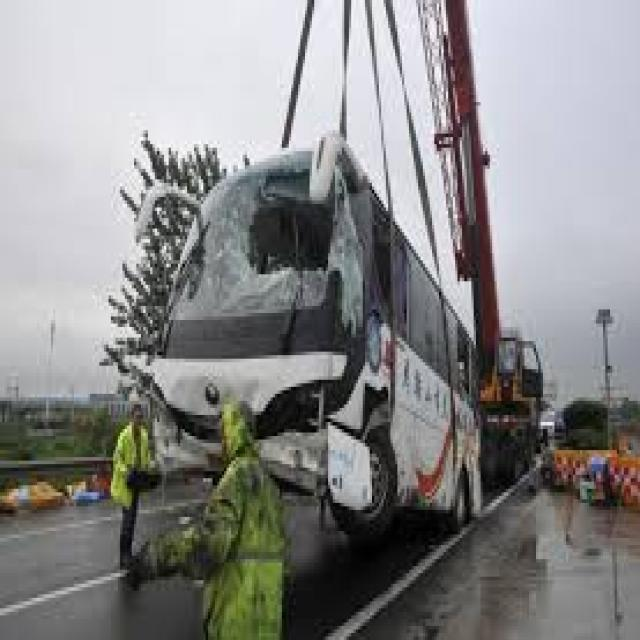accident: (111, 106, 540, 530)
